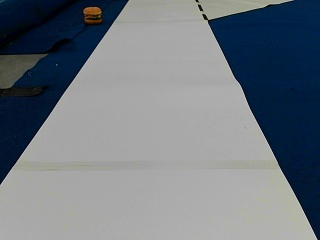burger: (83, 5, 103, 24)
